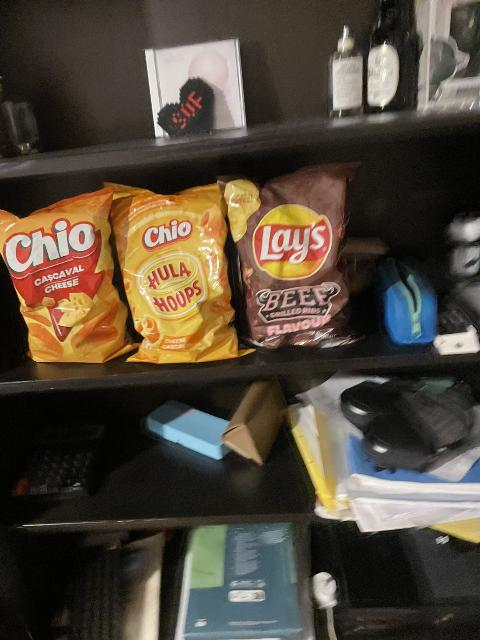Chio Cascaval 125g: (0, 188, 134, 365)
Chio Hula Hoops Cheese 70g: (110, 181, 247, 362)
Lays Beef Grilled Ribs 125g: (220, 160, 356, 345)
